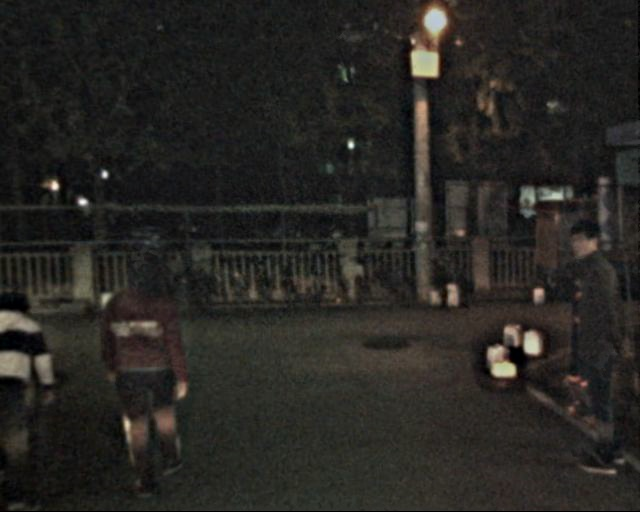person: (104, 246, 203, 493), (557, 216, 630, 467), (1, 279, 64, 477)
